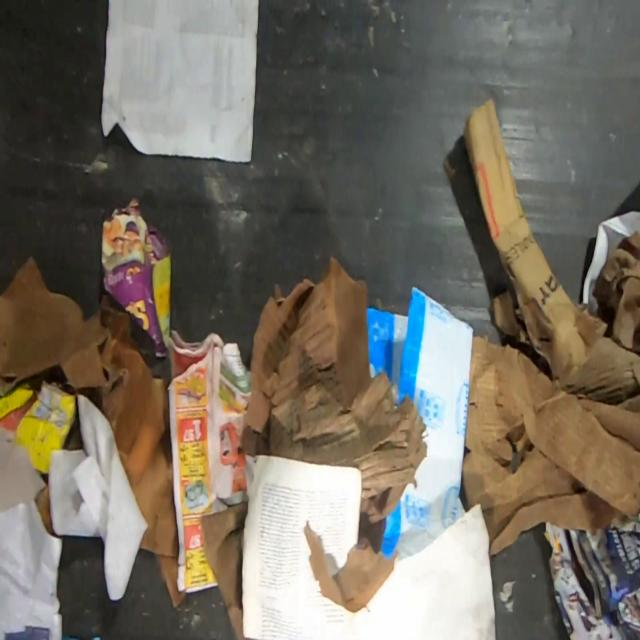cardboard: (462, 95, 640, 557), (0, 255, 185, 608), (241, 255, 427, 524), (304, 519, 399, 612), (0, 380, 76, 473), (201, 502, 246, 640), (35, 482, 53, 535)
soft_plastic: (366, 285, 473, 560)
